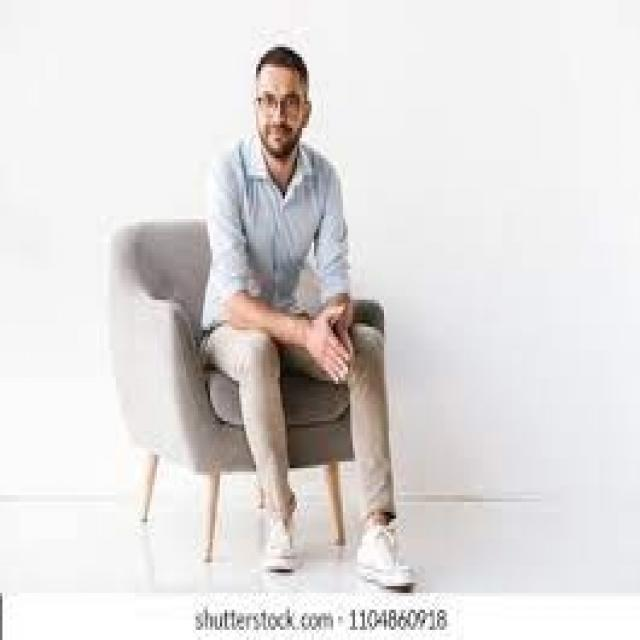sitting: (180, 41, 426, 590)
